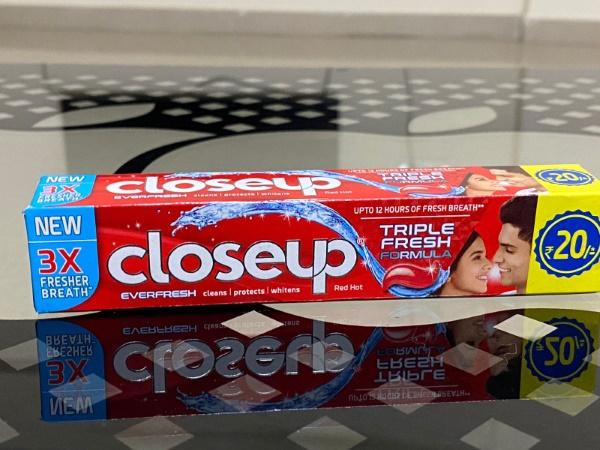CloseUp: (15, 163, 600, 318)
